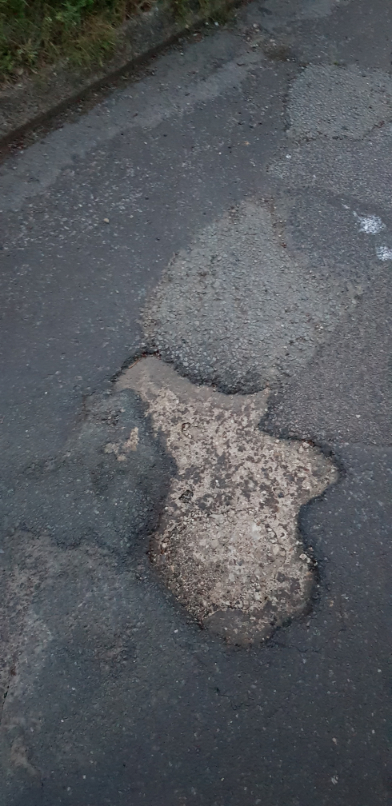pothole: (109, 341, 351, 651)
